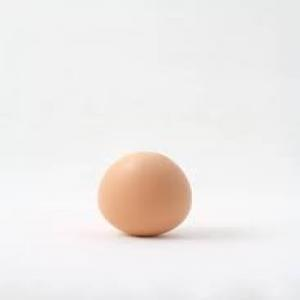Egg: (96, 150, 192, 240)
